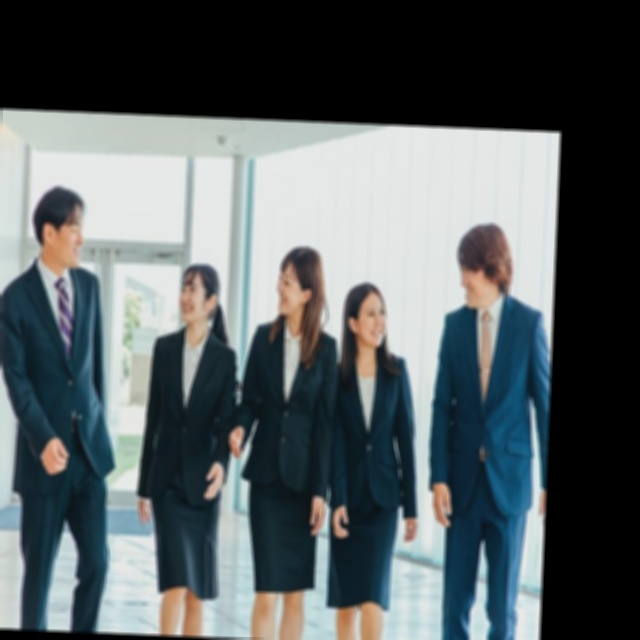Sin_Casco_Mascarrilla: (454, 223, 514, 310), (30, 187, 88, 270), (276, 245, 326, 324), (342, 282, 390, 351), (178, 262, 223, 326)
Sin_Chaleco: (433, 299, 548, 519), (0, 264, 104, 476), (242, 321, 339, 510), (140, 328, 239, 511), (327, 353, 411, 529)
